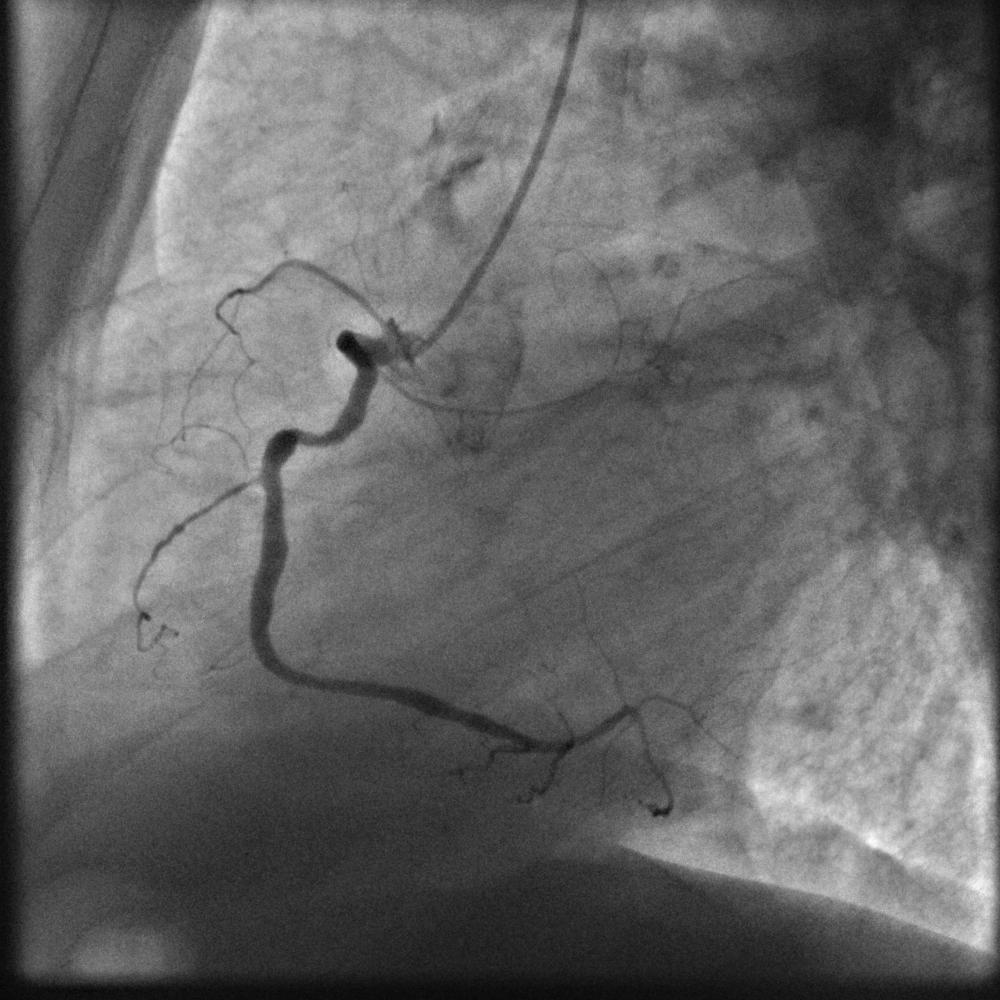Stenosis: (291, 425, 319, 446)
